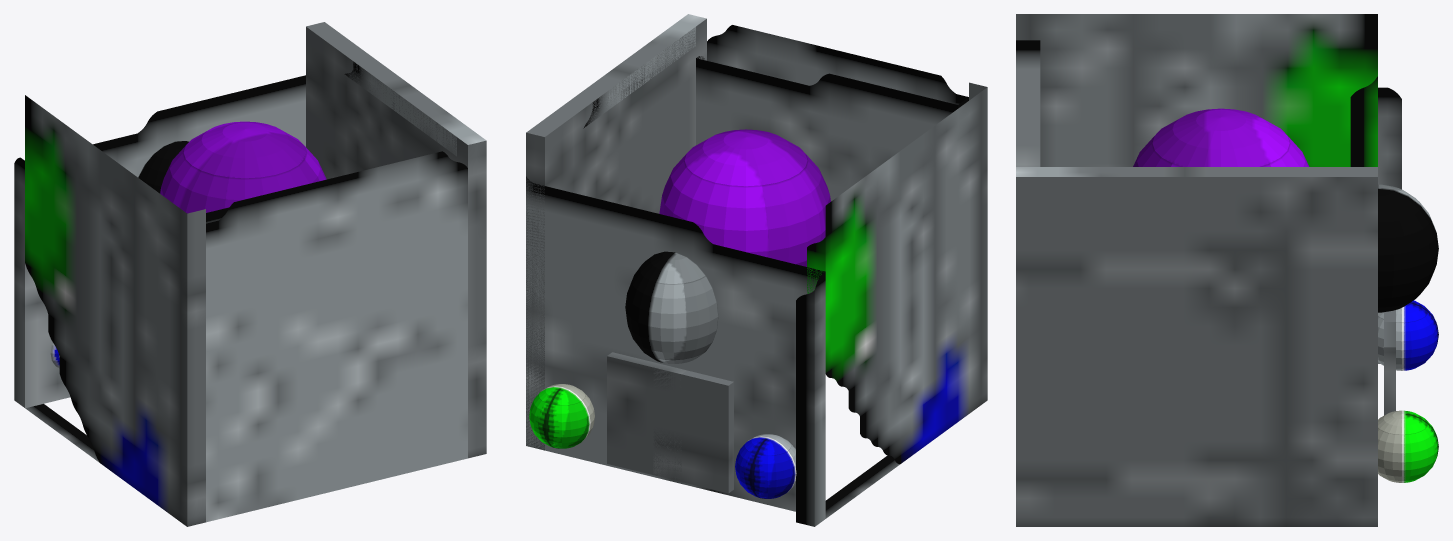
File: kraken.fbx
The picture shows the model from 3 angles, left to right: view 1: azimuth 30°, elevation 25°; view 2: azimuth 150°, elevation 25°; view 3: azimuth 270°, elevation 25°; orthographic projection. The views are drawn at different scales.
Visible parts, largest first — view 1: BackBody, RightBody, LeftBody, FrontBody, Core, TopBody, LeftEyelid; view 2: FrontBody, RightBody, BackBody, LeftBody, Core, LeftMouth, LeftEyelid, RightMouth, EyeGreen2, EyeBlue2, TopBody; view 3: LeftBody, RightBody, Core, LeftEyelid, EyeGreen2, BackBody, EyeBlue2, FrontBody, RightMouth.
Boxes of the visible parts, x1,y1,x2,y2 form: BackBody: (206, 151, 467, 522); RightBody: (25, 95, 205, 526); LeftBody: (306, 22, 486, 458); FrontBody: (14, 75, 305, 408); Core: (160, 121, 326, 213); TopBody: (344, 61, 456, 156); LeftEyelid: (138, 141, 188, 193); FrontBody: (526, 176, 825, 526); RightBody: (807, 82, 987, 518); BackBody: (696, 25, 968, 201); LeftBody: (526, 14, 706, 450); Core: (659, 129, 830, 266); LeftMouth: (653, 368, 733, 493); LeftEyelid: (625, 251, 718, 363); RightMouth: (607, 352, 686, 481); EyeGreen2: (529, 384, 594, 448); EyeBlue2: (735, 434, 796, 498); TopBody: (583, 27, 695, 128); LeftBody: (1016, 167, 1377, 526); RightBody: (1016, 14, 1377, 166); Core: (1133, 108, 1309, 166); LeftEyelid: (1378, 184, 1438, 312); EyeGreen2: (1378, 410, 1438, 482); BackBody: (1016, 40, 1040, 166); EyeBlue2: (1378, 300, 1438, 370); FrontBody: (1378, 87, 1401, 363); RightMouth: (1384, 322, 1395, 415).
Size of the model in its own units: 400 by 400 by 438.
